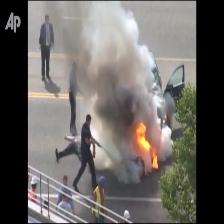smoke: (74, 11, 144, 121), (102, 128, 131, 182), (149, 122, 171, 148)
